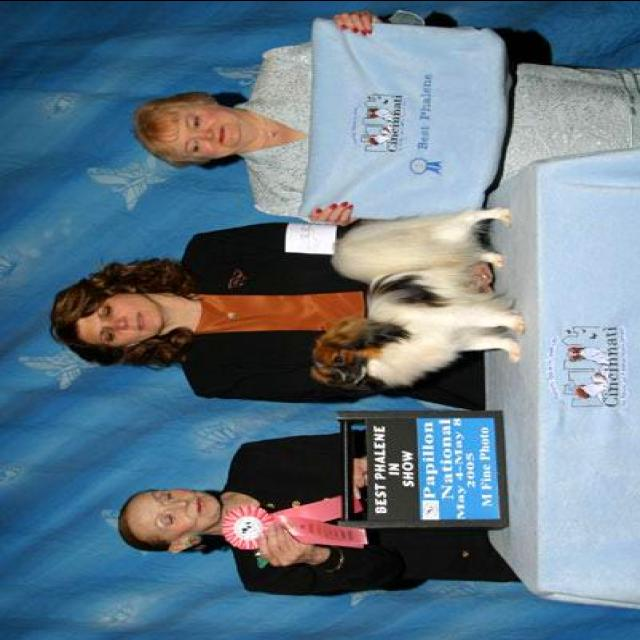papillon: (309, 208, 526, 388)
